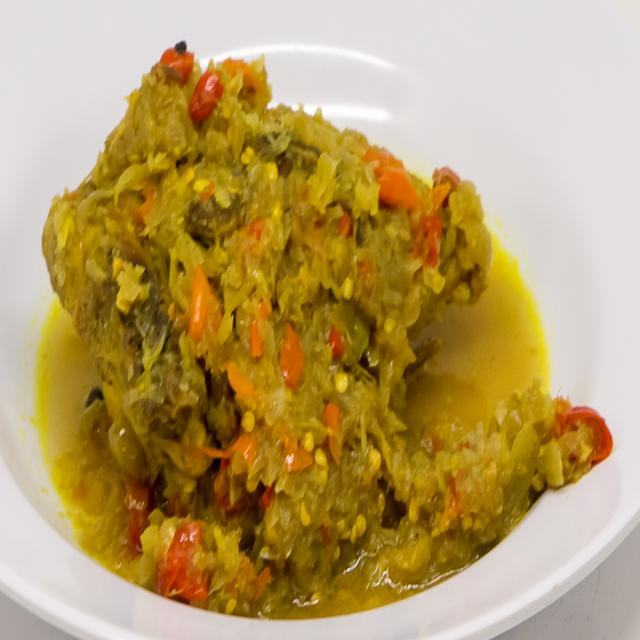Ayam-Betutu: (40, 29, 603, 617)
